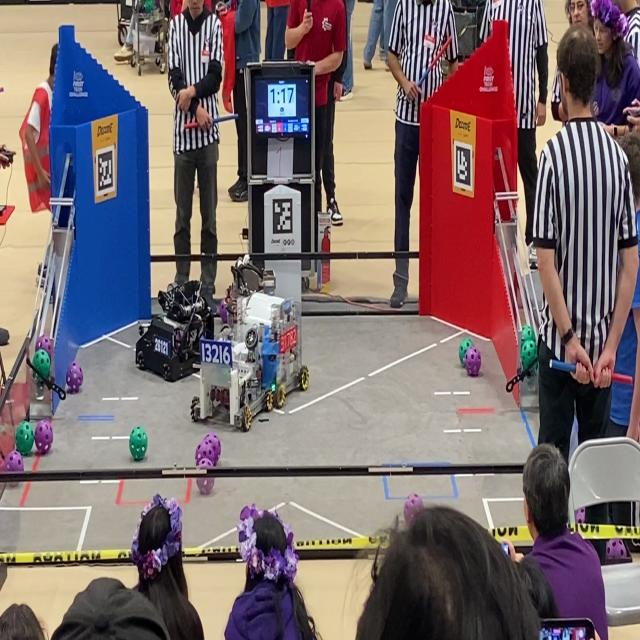artifact_green: (16, 421, 34, 456), (129, 427, 147, 461), (32, 349, 51, 378), (521, 340, 537, 370), (459, 338, 473, 366), (520, 336, 536, 359), (521, 325, 536, 345), (143, 0, 154, 13), (520, 339, 527, 359), (32, 371, 43, 383)
artifact_purple: (35, 420, 53, 455), (404, 494, 423, 526), (195, 438, 215, 465), (205, 432, 221, 465), (66, 362, 83, 393), (465, 347, 481, 376), (606, 539, 627, 559), (5, 450, 23, 472), (36, 335, 52, 358), (219, 299, 228, 324), (575, 508, 585, 523), (198, 459, 214, 468), (0, 457, 4, 472)
